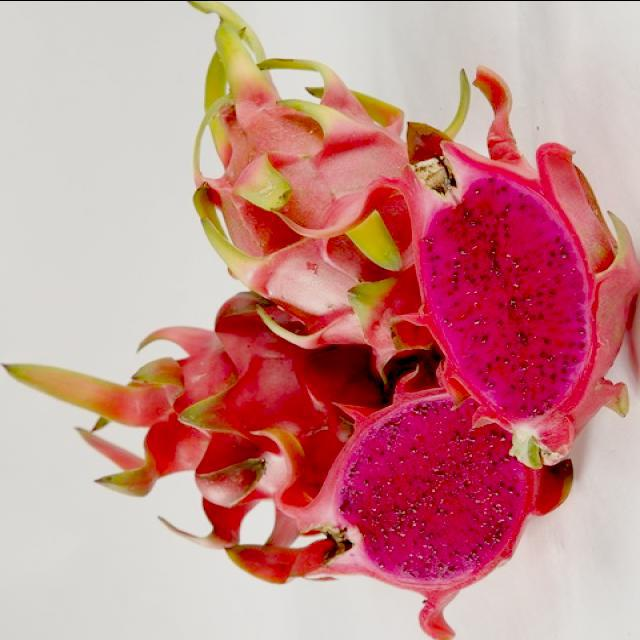do: (172, 1, 422, 371), (0, 338, 384, 564), (397, 132, 638, 454), (320, 382, 534, 631)
